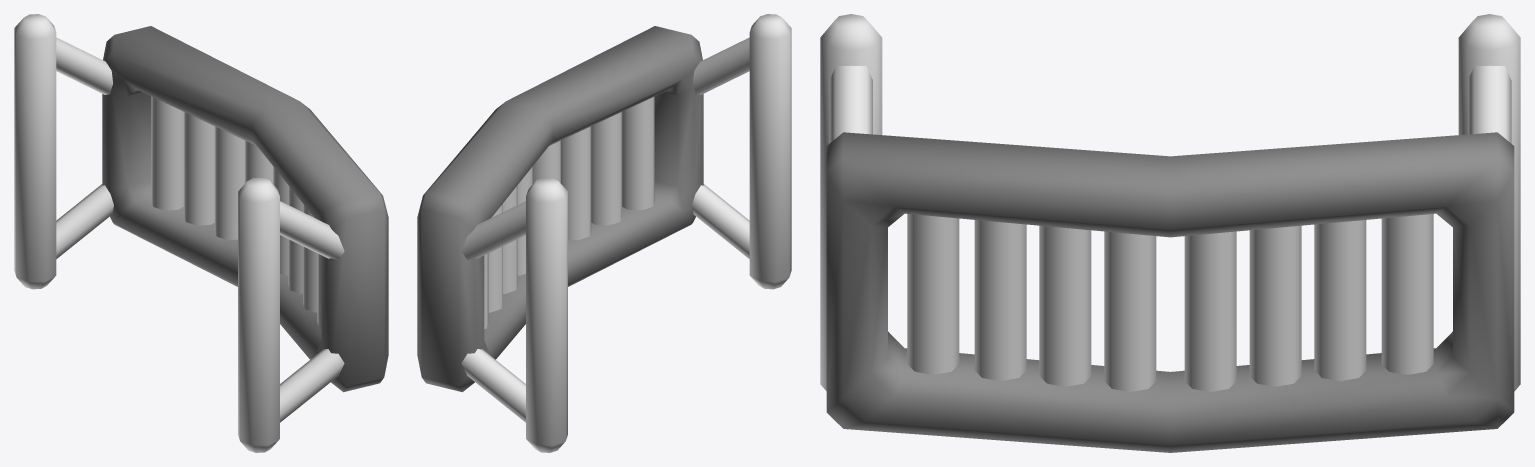
The model's file is bumper_metal.fbx.
The picture shows the model from 3 angles, left to right: view 1: azimuth 30°, elevation 25°; view 2: azimuth 150°, elevation 25°; view 3: azimuth 270°, elevation 25°; orthographic projection. The views are drawn at different scales.
Parts seen in each view (by area): view 1: bumper_metal; view 2: bumper_metal; view 3: bumper_metal.
Boxes of the visible parts, left/top/right/bottom form: bumper_metal: left=14, top=14, right=388, bottom=452; bumper_metal: left=417, top=14, right=791, bottom=452; bumper_metal: left=820, top=14, right=1520, bottom=452.
Size of the model in its own units: 81.38 by 113 by 190.
